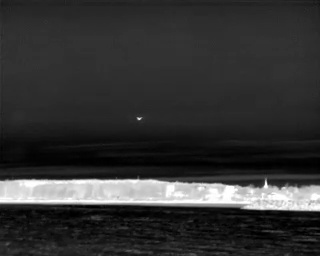BIRD: (135, 114, 144, 124)
